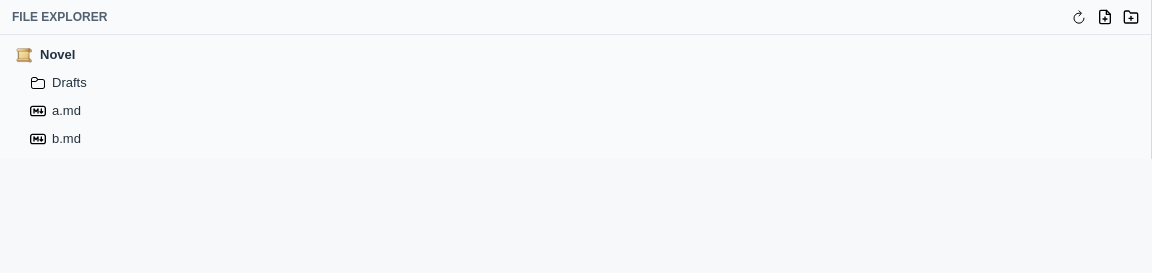
Scenario: FileExplorer delete wiring (#351) › adds a Delete... context-menu item, disabled with no selection
Right-click the list item "a.md": coordinates (38, 111) left=6, top=97, right=1145, bottom=125
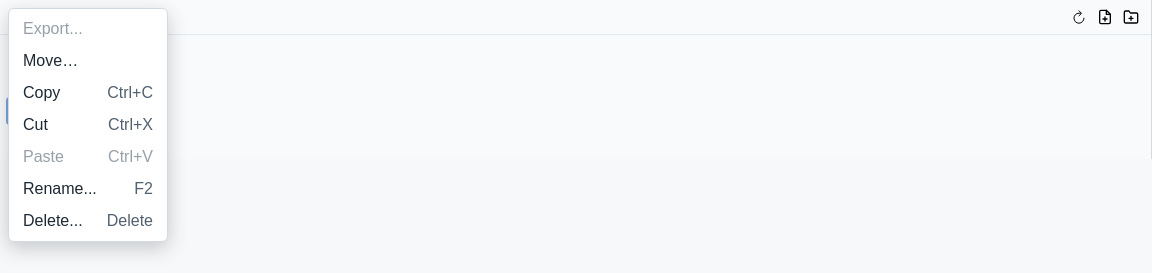
Expected: the menu item "Delete... Delete" is shown, left=13, top=205, right=163, bottom=237
